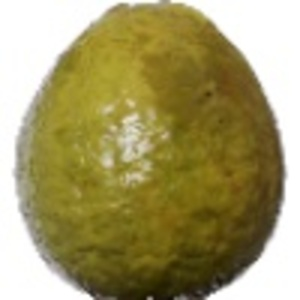goiaba: (13, 5, 293, 297)
